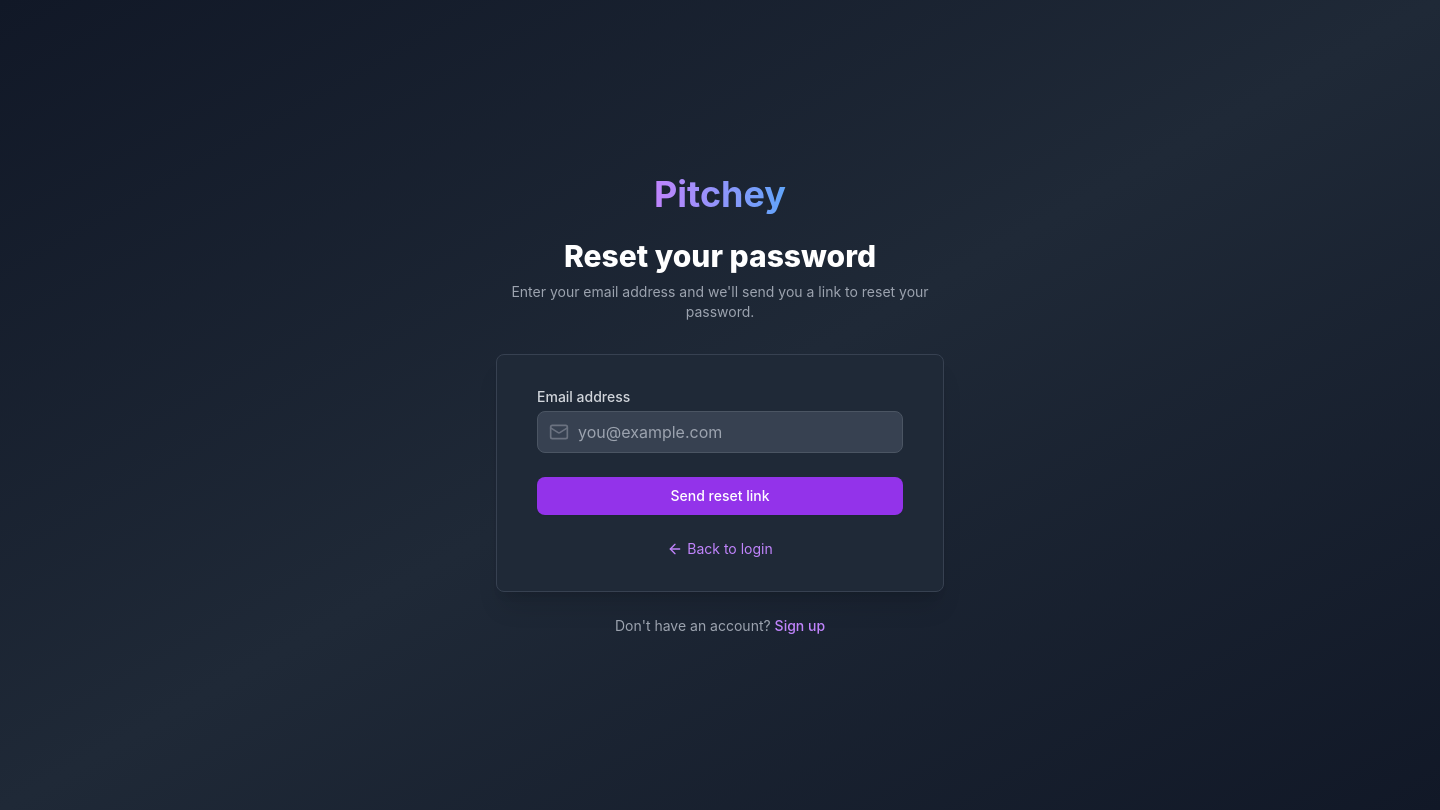
it: ForgotPassword › shows success screen after submitting
Type "forgot@test.com" into the field labelled "Email address" at (720, 432), box [537,411,903,453]
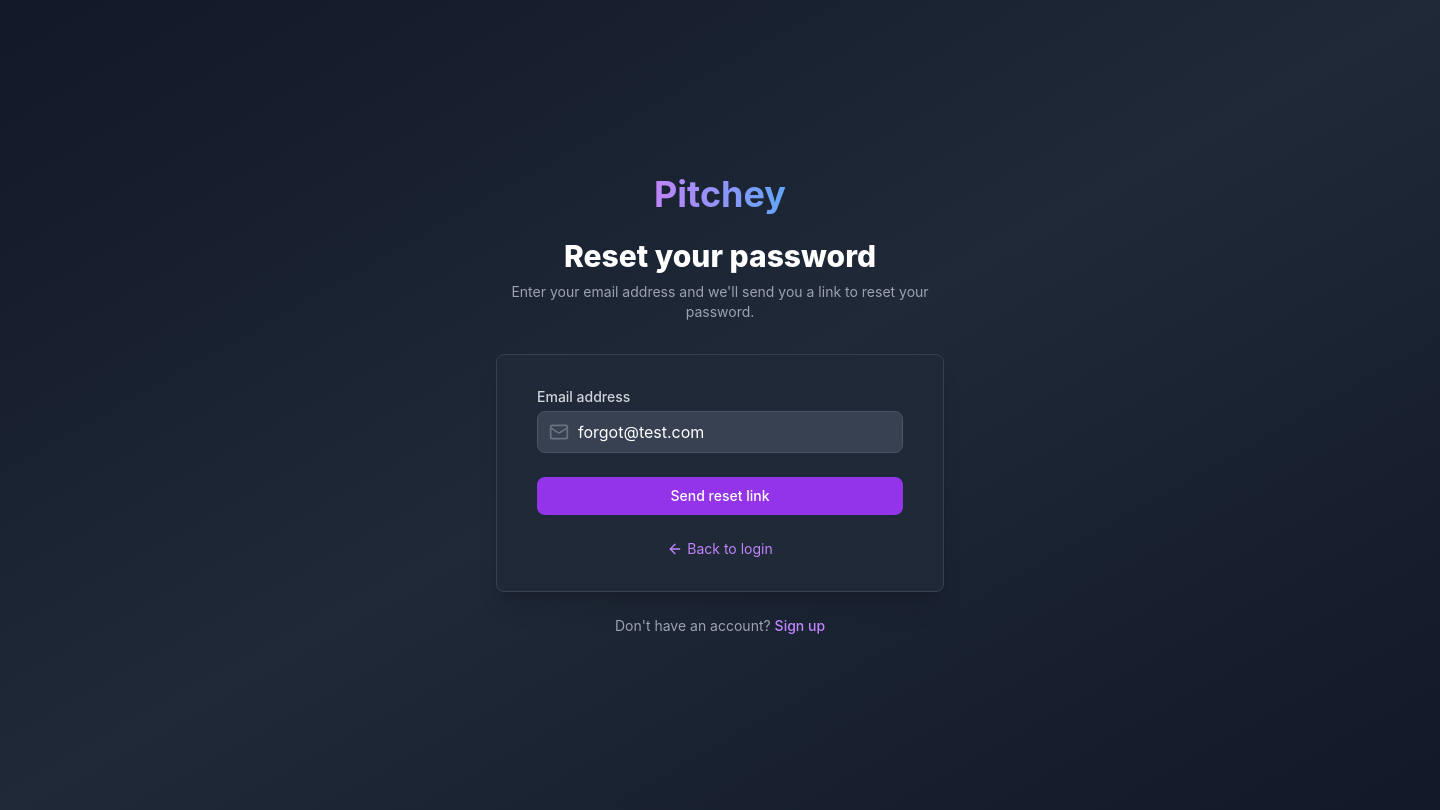
Click the button "Send reset link" at (720, 496), box [537,477,903,515]
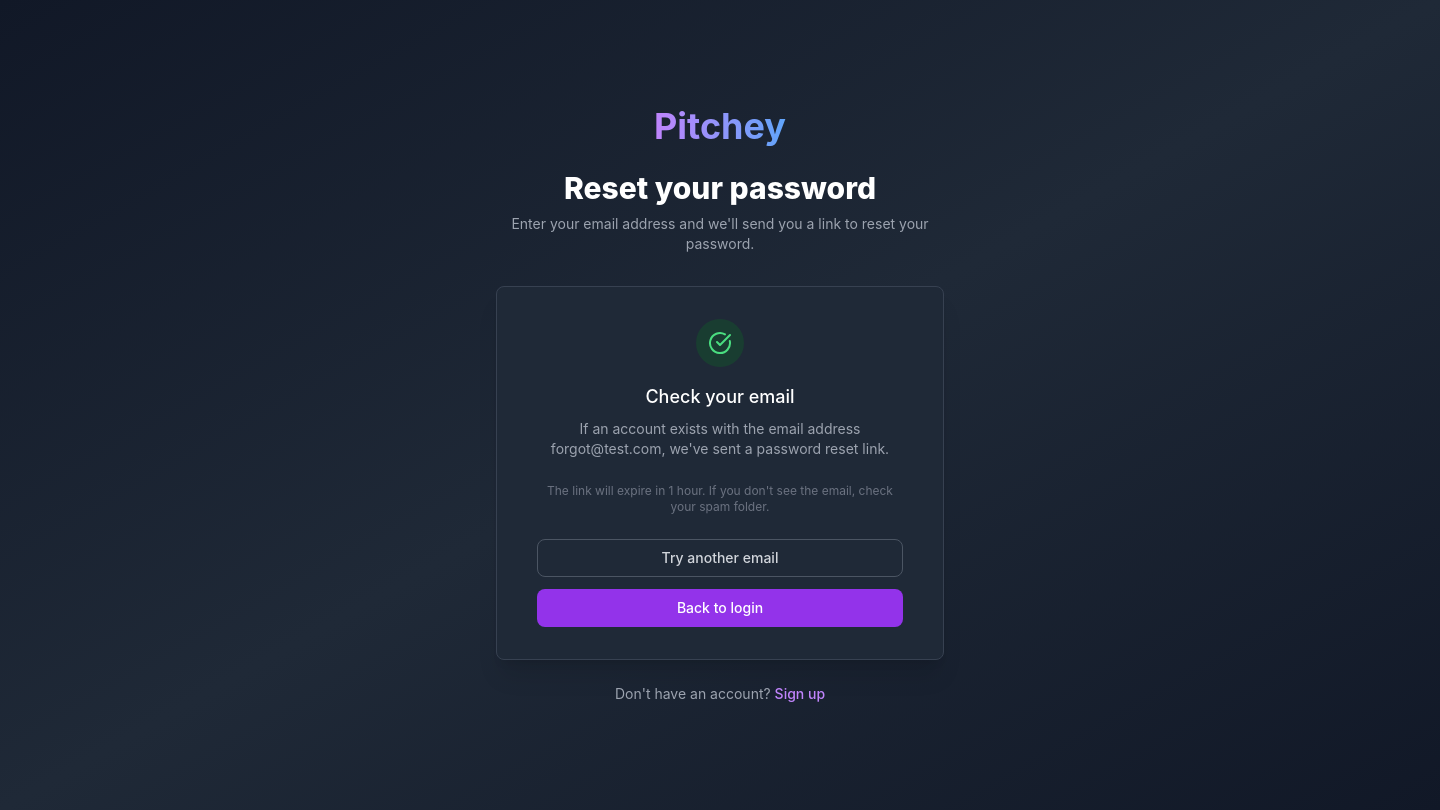
Now the heading "Check your email" is shown, box [645,386,795,407]
Now the text "forgot@test.com" is shown, box [551,440,662,457]
Now the text "The link will expire in 1 hour" is shown, box [547,483,893,514]
